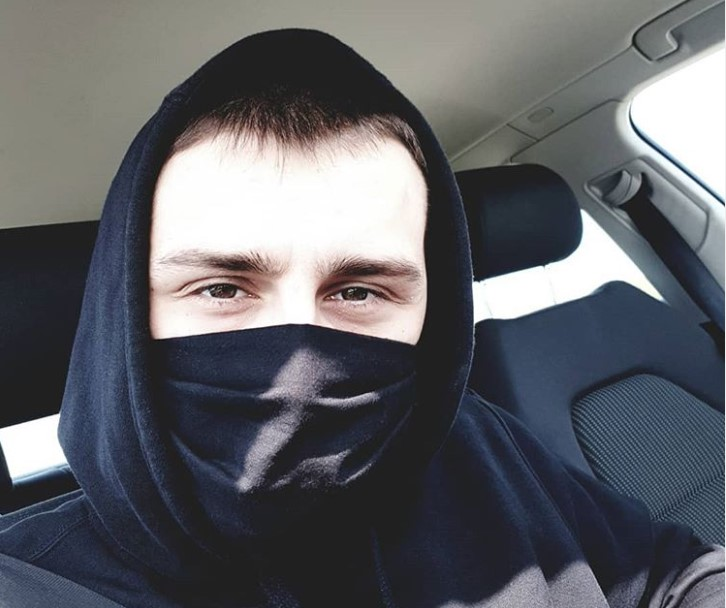face_with_mask: (131, 104, 483, 563)
